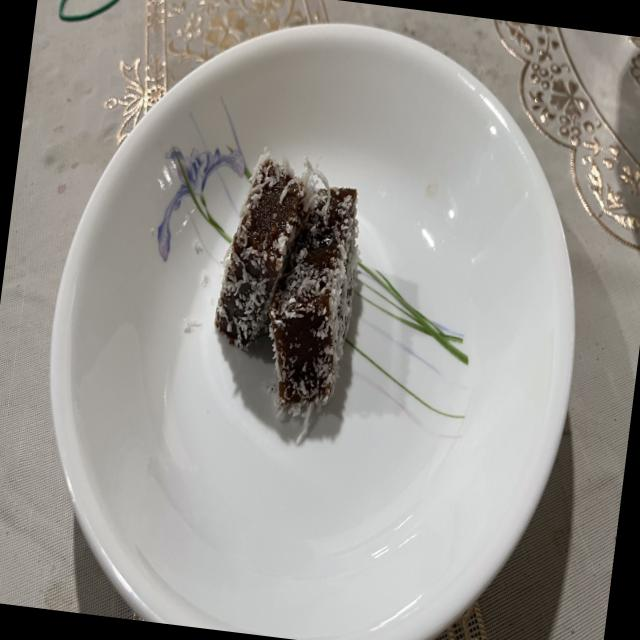kaswi: (269, 184, 358, 412), (212, 148, 310, 352)
